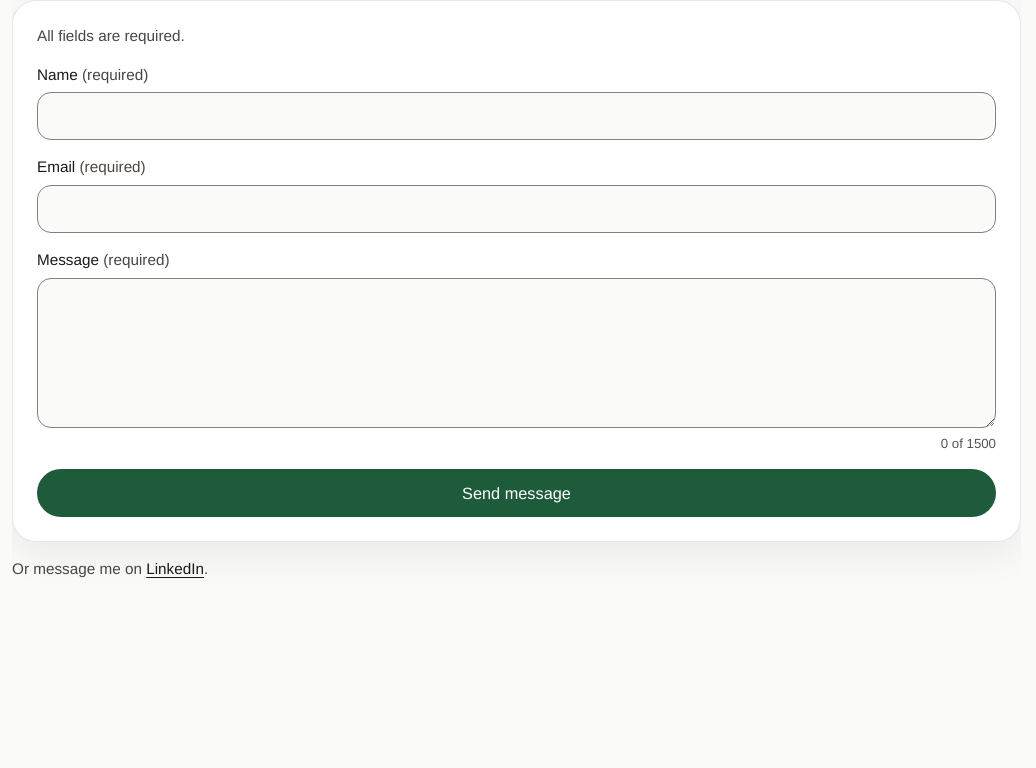
ContactForm › posts the message, shows progress, then moves focus to the sent heading
Step 1. Type "Ada Lovelace" into the field labelled "Name (required)" → (516, 116), box [37, 92, 996, 140]
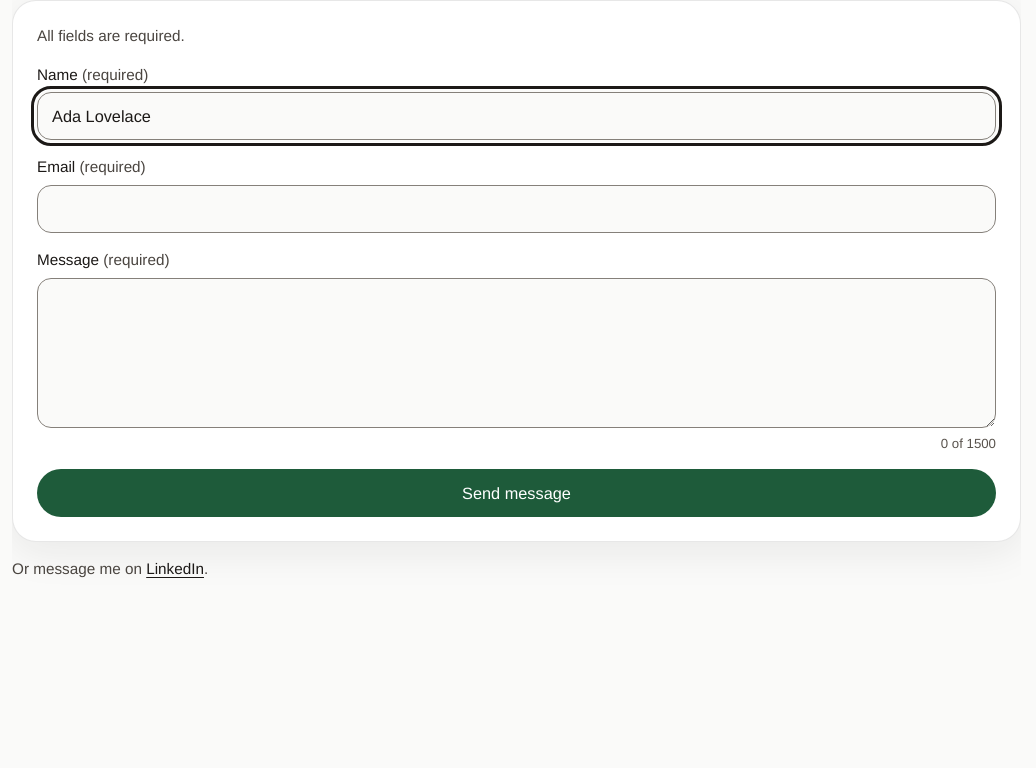
Step 2. Type "ada@example.com" into the field labelled "Email (required)" → (516, 209), box [37, 185, 996, 233]
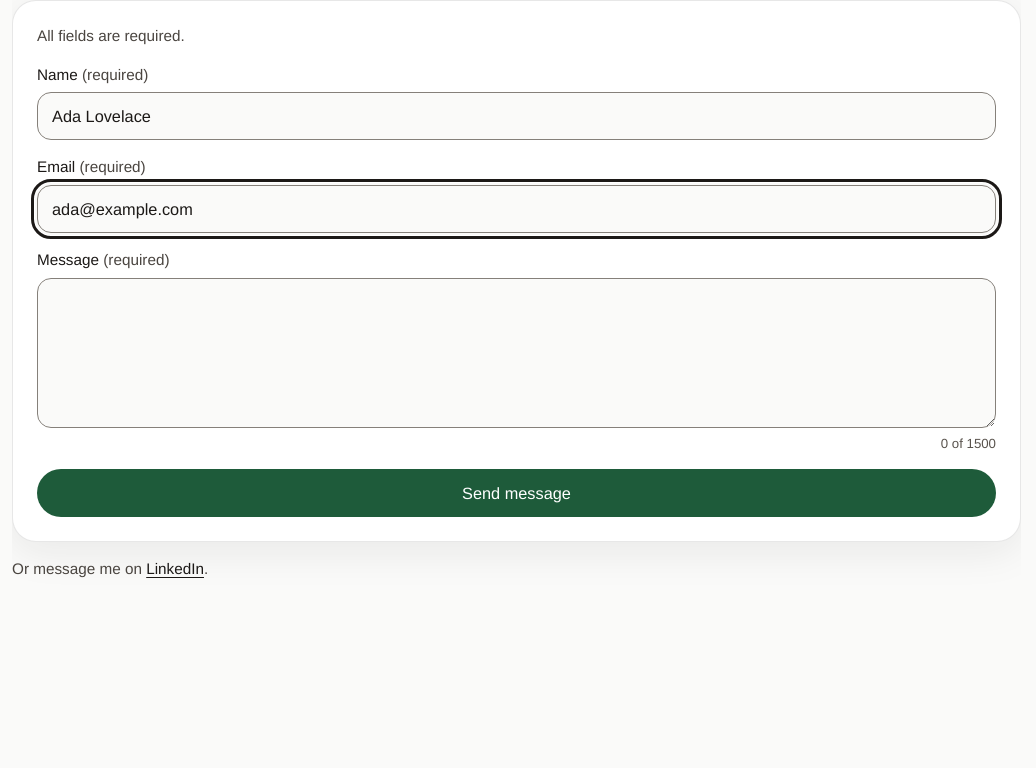
Step 3. Type "Hello there." into the text box labelled "Message (required)" → (516, 353), box [37, 278, 996, 428]
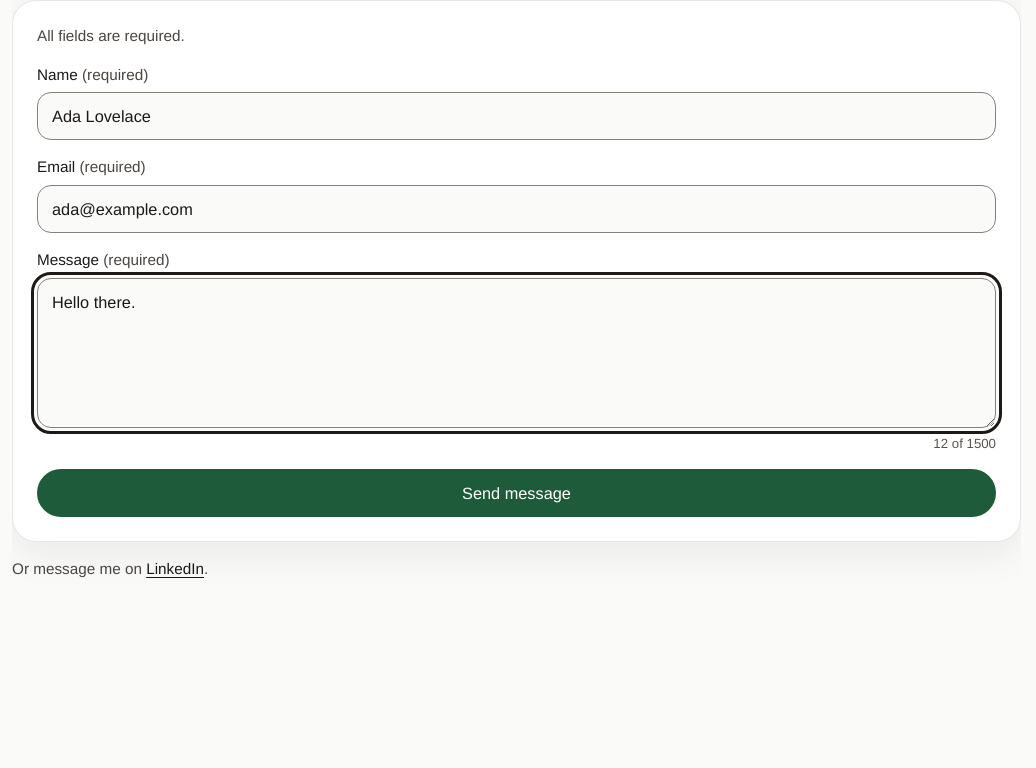
Step 4. Click the button "Send message" → (516, 493), box [37, 469, 996, 517]
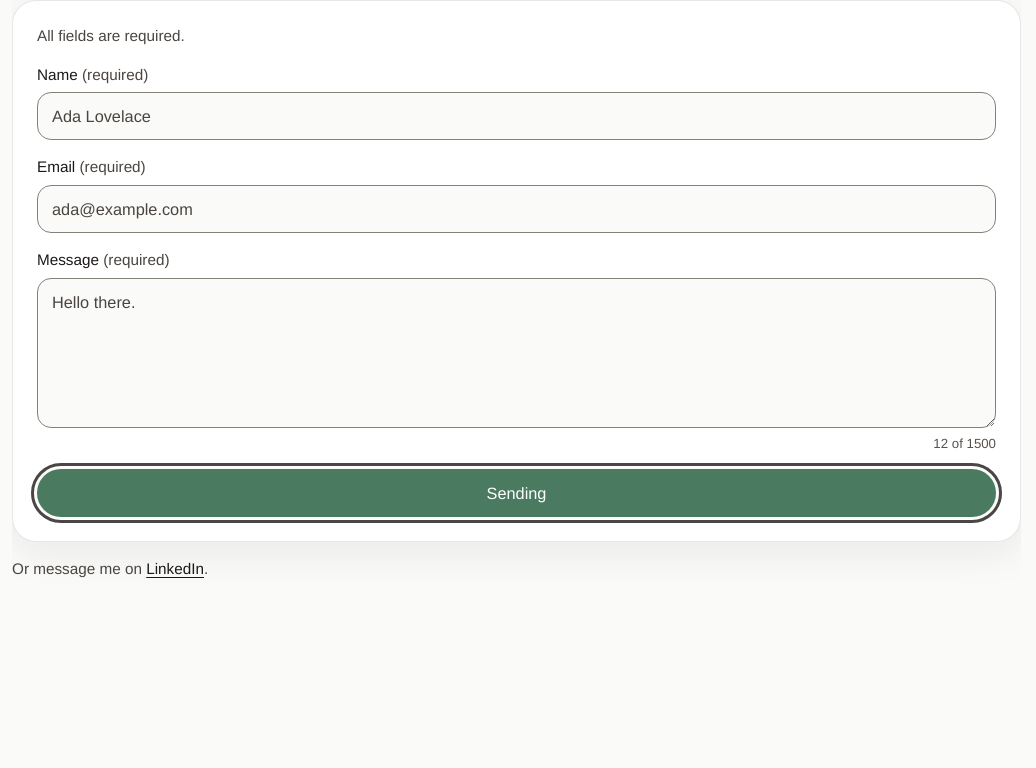
Now the button "Sending" is disabled
Now the field labelled "Name (required)" has attribute readonly, box [37, 92, 996, 140]
Step 5. Click the button "Sending" → (516, 493), box [37, 469, 996, 517]
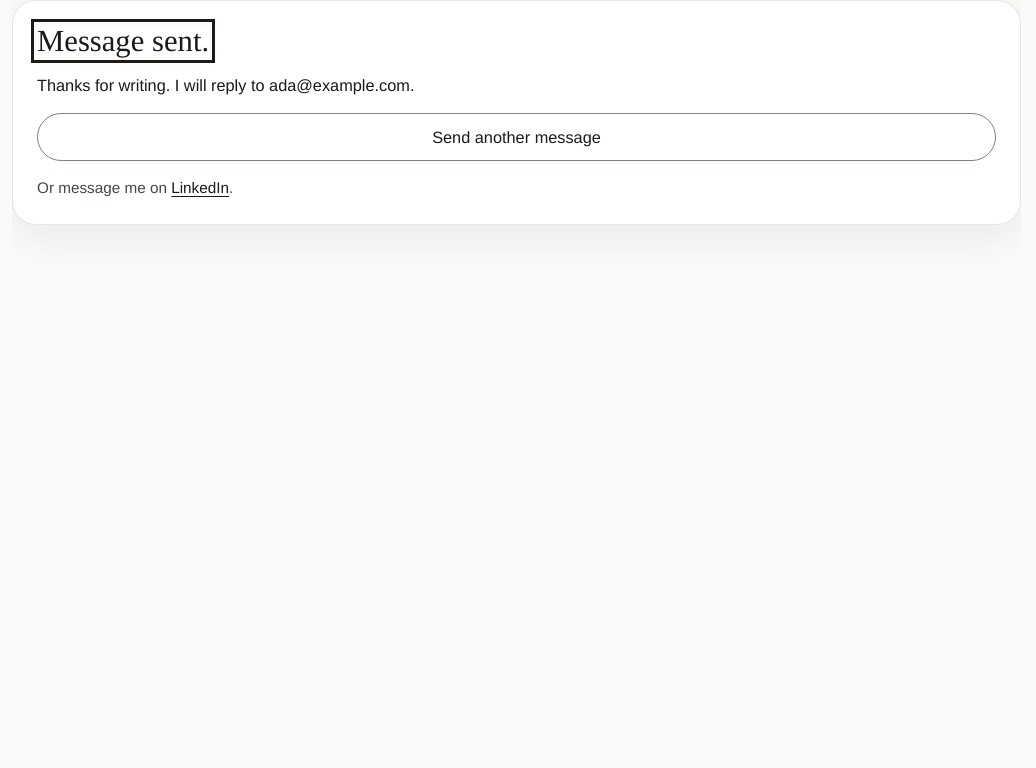
Now the text "Thanks for writing. I will reply to ada@example.com." is shown, box [37, 73, 414, 97]
Now the label "Name" is gone
